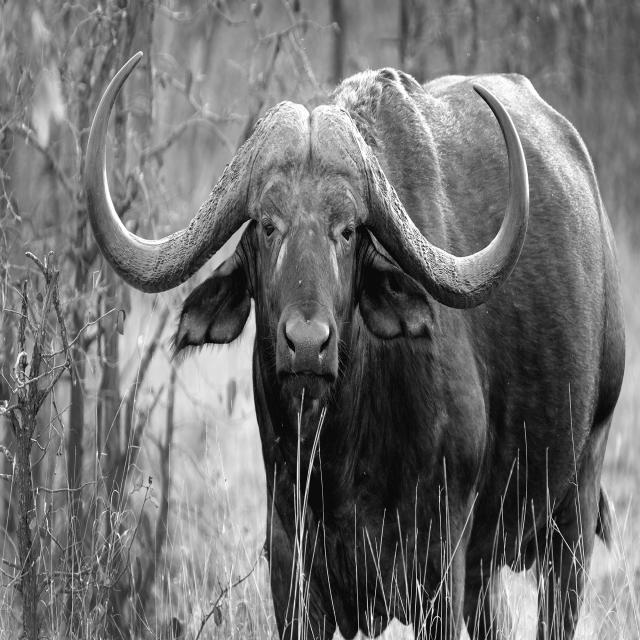Buffalo: (82, 49, 627, 635)
